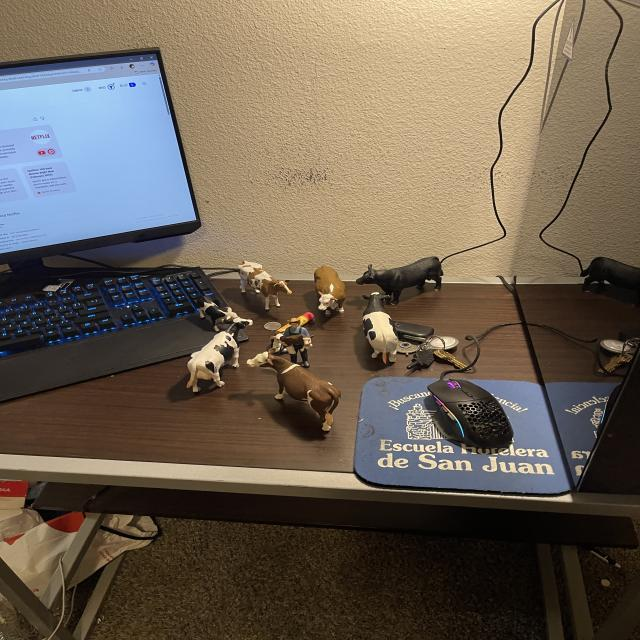cow: (238, 337, 352, 434), (173, 304, 267, 405), (353, 251, 447, 312), (226, 255, 296, 317), (356, 290, 403, 368), (313, 263, 348, 318), (197, 298, 246, 333), (280, 334, 311, 346)
person: (287, 316, 309, 338)
